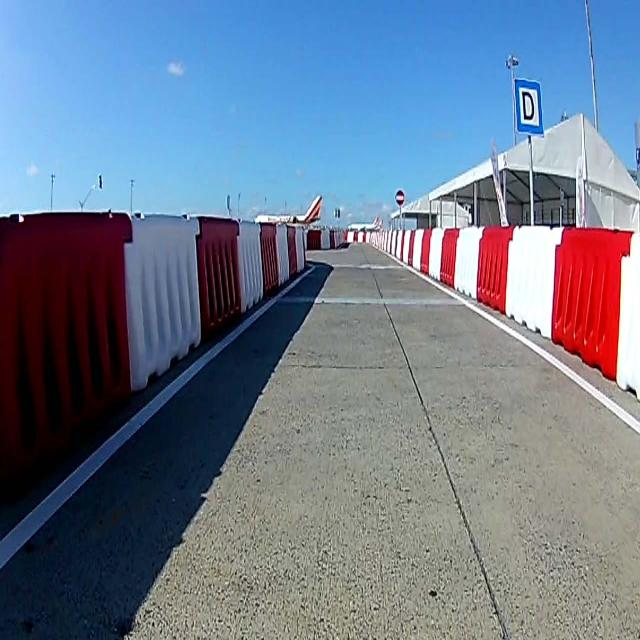durak: (512, 78, 544, 137)
girisyok: (395, 190, 405, 207)
